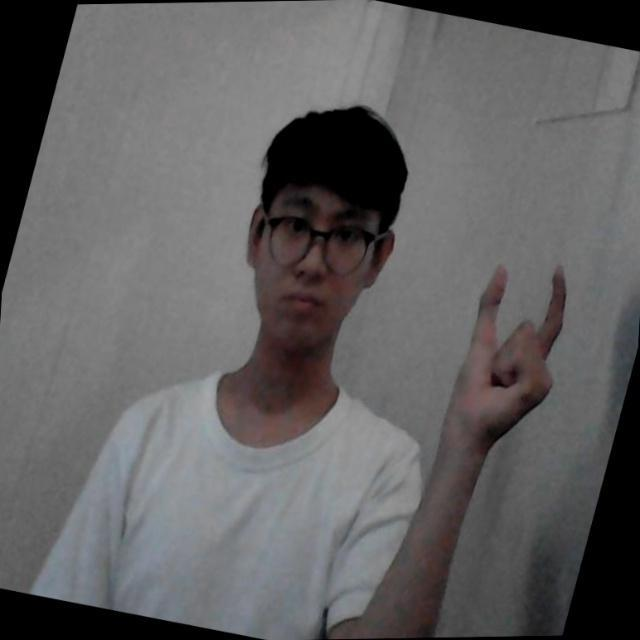U: (461, 250, 580, 391)
